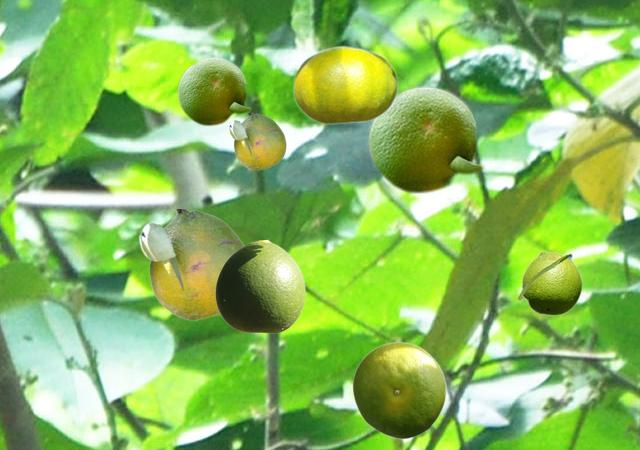dalandan: (366, 83, 485, 193), (138, 209, 244, 319), (352, 341, 445, 438), (292, 45, 397, 124), (215, 240, 304, 332), (176, 55, 251, 125), (516, 250, 582, 315), (228, 113, 285, 169)
